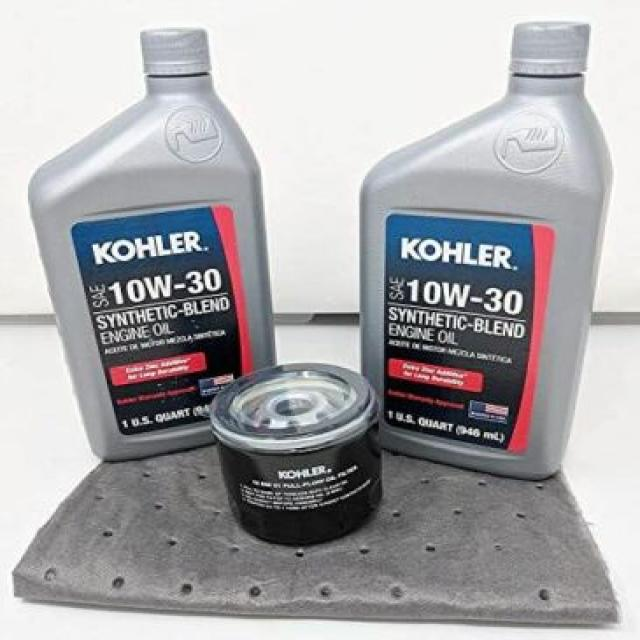motor_oil: (361, 7, 618, 486), (22, 29, 276, 464)
oil_filter: (208, 360, 386, 550)
